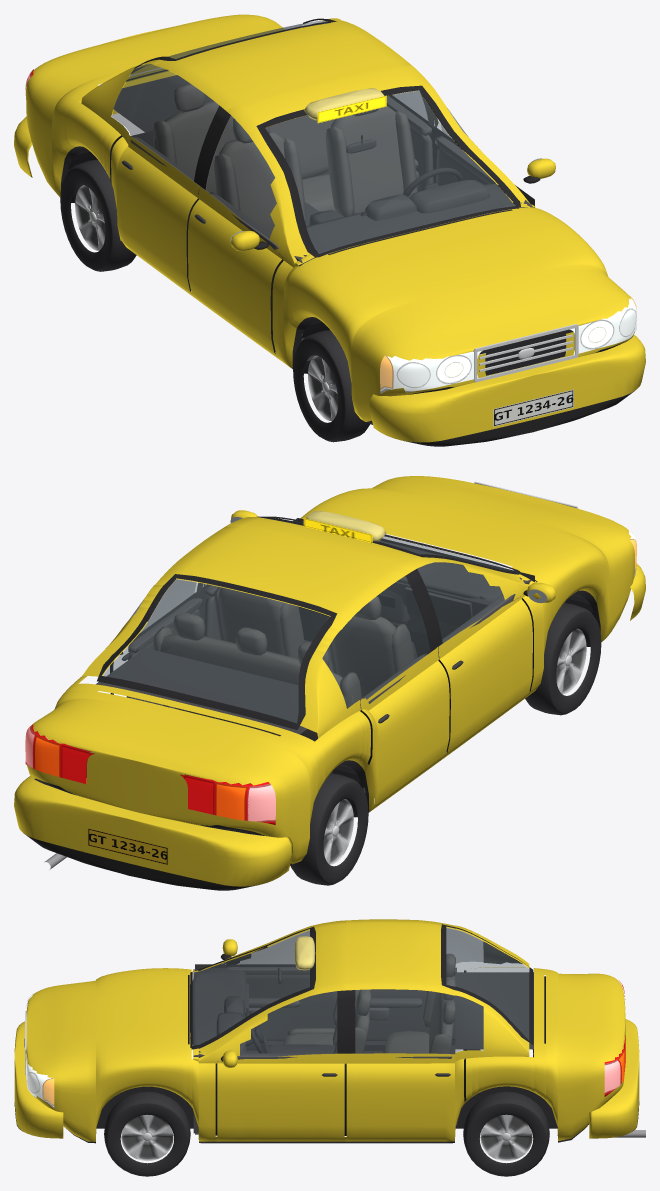
File: accrarush_corolla_taxi.glb
The picture shows the model from 3 angles, top to bottom: view 1: azimuth 30°, elevation 25°; view 2: azimuth 150°, elevation 25°; view 3: azimuth 270°, elevation 25°; orthographic projection. The views are drawn at different scales.
Visible parts, largest first — view 1: Body, Window_Windscreen, Bumper_Front, Door_FR, Door_RR, Seat_Driver, Seat_Rear, Window_RR, Dashboard, Wheel_FR, Wheel_RR, Seat_Passenger (+14 smaller); view 2: Body, Window_Rear, Bumper_Rear, Door_FR, Door_RR, CabinShell, Window_RR, Dashboard, Seat_Rear, Wheel_RR, Wheel_FR, Seat_Passenger (+12 smaller); view 3: Body, Door_FL, Door_RL, Window_RL, Window_Windscreen, CabinShell, Wheel_FL, Wheel_RL, Window_Rear, Window_FL, DoorCard_FR, Dashboard (+16 smaller).
Part boxes in pixels (left/top/right/bottom): Body: left=26, top=14, right=635, bottom=424; Window_Windscreen: left=265, top=91, right=514, bottom=253; Bumper_Front: left=369, top=335, right=645, bottom=446; Door_FR: left=188, top=187, right=282, bottom=352; Door_RR: left=111, top=126, right=198, bottom=291; Seat_Driver: left=325, top=106, right=417, bottom=216; Seat_Rear: left=153, top=83, right=335, bottom=211; Window_RR: left=112, top=64, right=218, bottom=180; Dashboard: left=278, top=135, right=532, bottom=360; Wheel_FR: left=293, top=330, right=370, bottom=442; Wheel_RR: left=60, top=159, right=136, bottom=271; Seat_Passenger: left=214, top=118, right=306, bottom=233; Body: left=27, top=476, right=634, bottom=865; Window_Rear: left=103, top=580, right=329, bottom=722; Bumper_Rear: left=14, top=776, right=293, bottom=890; Door_FR: left=438, top=597, right=532, bottom=752; Door_RR: left=360, top=648, right=449, bottom=804; CabinShell: left=96, top=518, right=534, bottom=797; Window_RR: left=322, top=576, right=430, bottom=707; Dashboard: left=298, top=540, right=531, bottom=656; Seat_Rear: left=153, top=612, right=361, bottom=739; Wheel_RR: left=290, top=773, right=368, bottom=885; Wheel_FR: left=525, top=603, right=601, bottom=715; Seat_Passenger: left=326, top=596, right=414, bottom=697; Body: left=26, top=919, right=625, bottom=1143; Door_FL: left=217, top=1053, right=344, bottom=1137; Door_RL: left=346, top=1050, right=464, bottom=1137; Window_RL: left=355, top=990, right=483, bottom=1053; Window_Windscreen: left=193, top=931, right=309, bottom=1045; CabinShell: left=195, top=941, right=533, bottom=1134; Wheel_FL: left=104, top=1091, right=190, bottom=1176; Wheel_RL: left=463, top=1091, right=549, bottom=1176; Window_Rear: left=446, top=928, right=528, bottom=1039; Window_FL: left=240, top=991, right=336, bottom=1055; DoorCard_FR: left=225, top=967, right=337, bottom=1041; Dashboard: left=192, top=967, right=281, bottom=1133.
Bounding box in the file's own units: 2.08 × 1.47 × 4.58.
27 materials, 6 textured.
